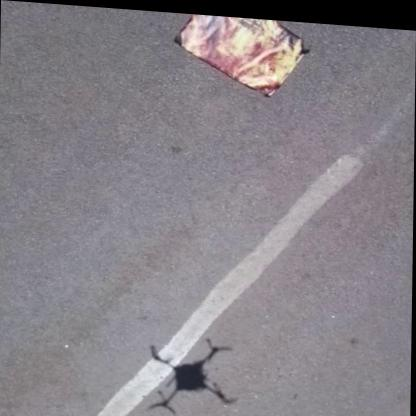fire-poster: (172, 10, 311, 96)
